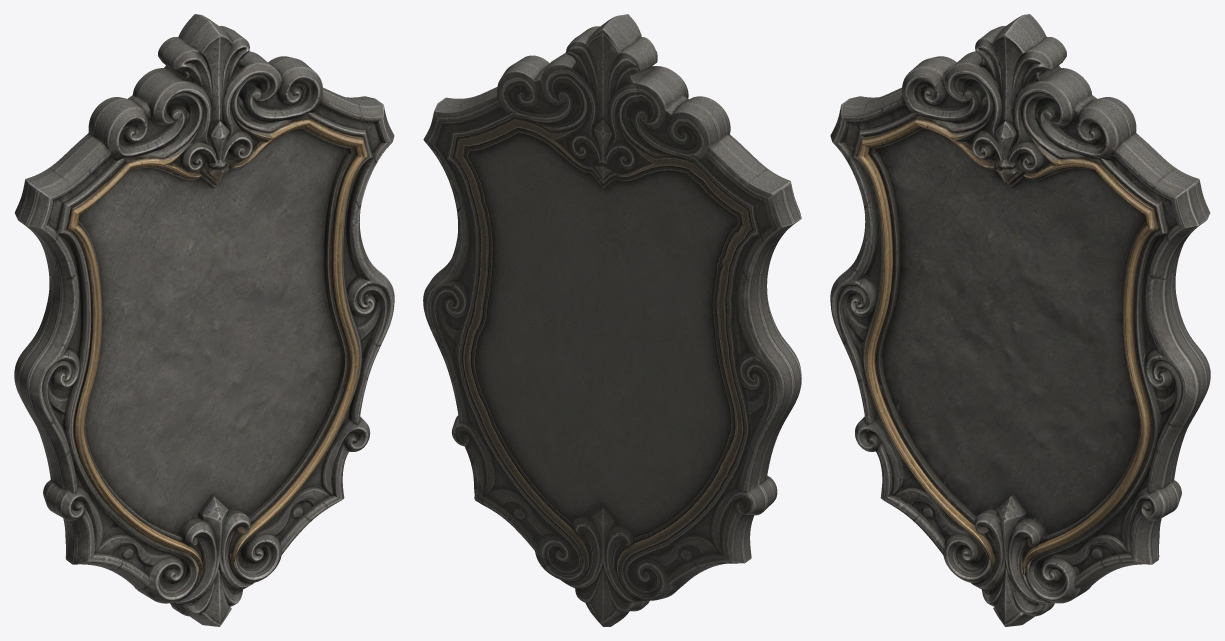
Rendered from Meshy_AI_model.glb.
3 renders of one model, left to right at view 1: azimuth 30°, elevation 25°; view 2: azimuth 150°, elevation 25°; view 3: azimuth 330°, elevation 25°, orthographic.
Visible parts, largest first — view 1: mesh_node; view 2: mesh_node; view 3: mesh_node.
Boxes of the visible parts, x1,y1,x2,y2 form: mesh_node: (14, 14, 394, 626); mesh_node: (423, 14, 801, 626); mesh_node: (830, 14, 1210, 626).
Bounding box in the file's own units: 1.21 × 1.91 × 0.1625.
1 material, 1 textured.
